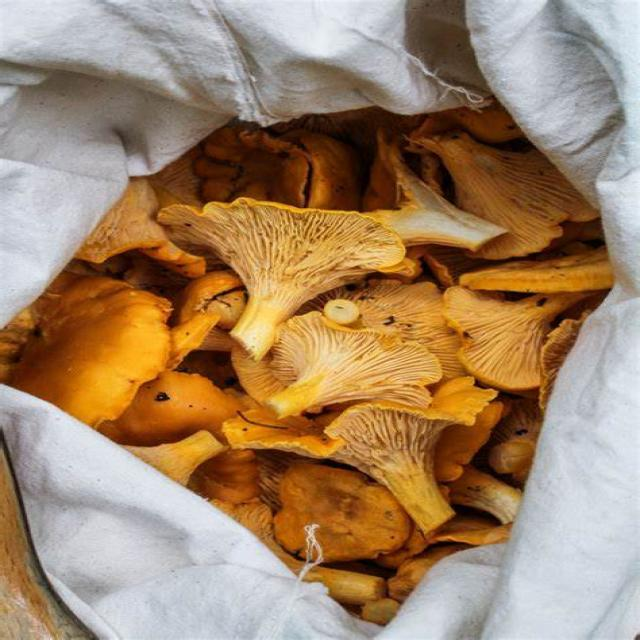chanterelle: (221, 376, 498, 534), (150, 201, 408, 363), (265, 311, 443, 419)
